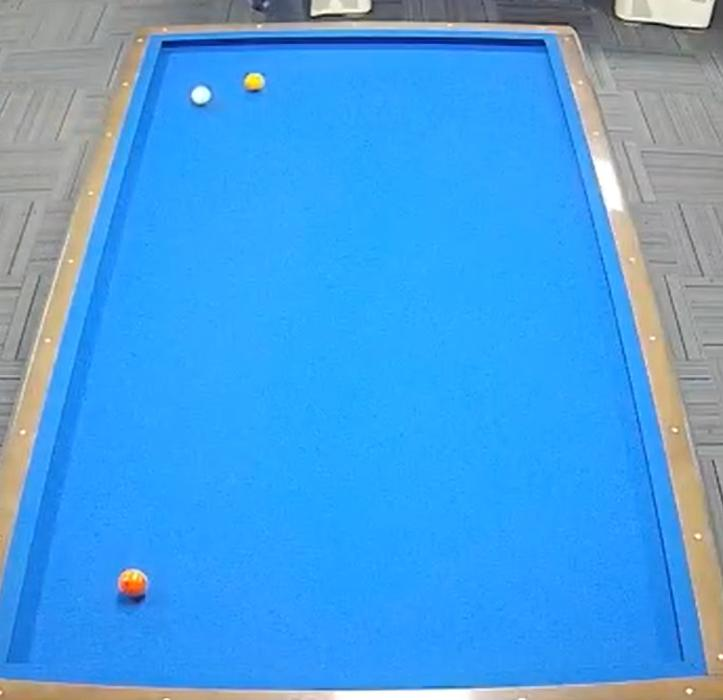orange ball: (113, 563, 154, 608)
white ball: (189, 79, 219, 116)
yellow ball: (238, 65, 273, 98)
